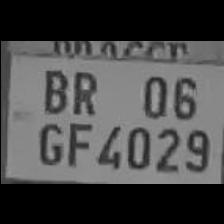0: (136, 67, 168, 117), (121, 121, 150, 169)
2: (152, 120, 180, 172)
4: (92, 118, 122, 170)
6: (169, 70, 198, 118)
9: (182, 122, 210, 172)
B: (36, 62, 68, 114)
F: (62, 118, 90, 166)
G: (32, 116, 64, 166)
R: (66, 64, 97, 116)
